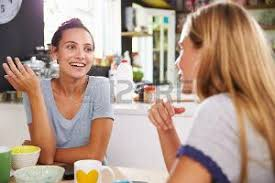person: (161, 8, 273, 170), (38, 22, 106, 114)
